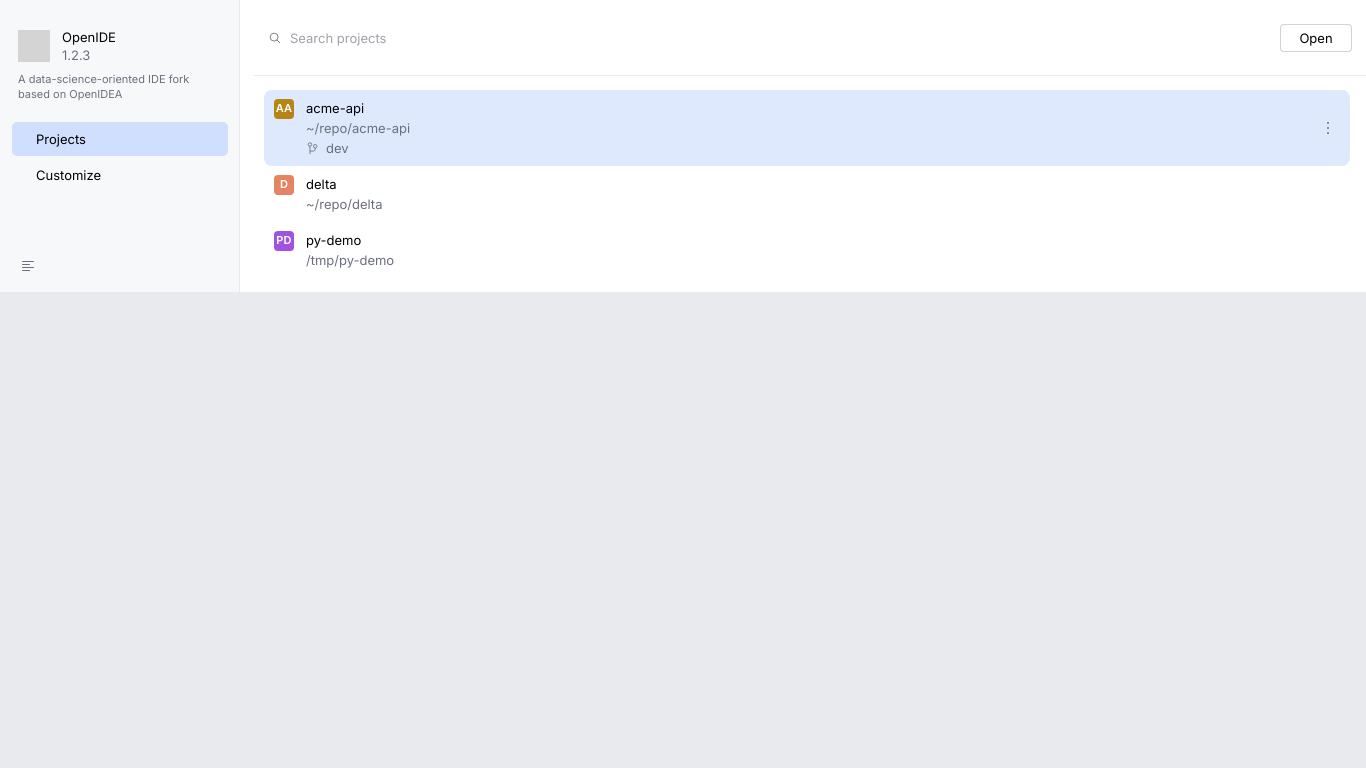
it: Welcome › Projects › moves with arrows, filters by typing, opens with Enter and removes with Delete
This screenshot has width=1366, height=768.
Step 1. Press ArrowDown in the field labelled "Search projects", box x1=288 y1=24 x2=1264 y2=52
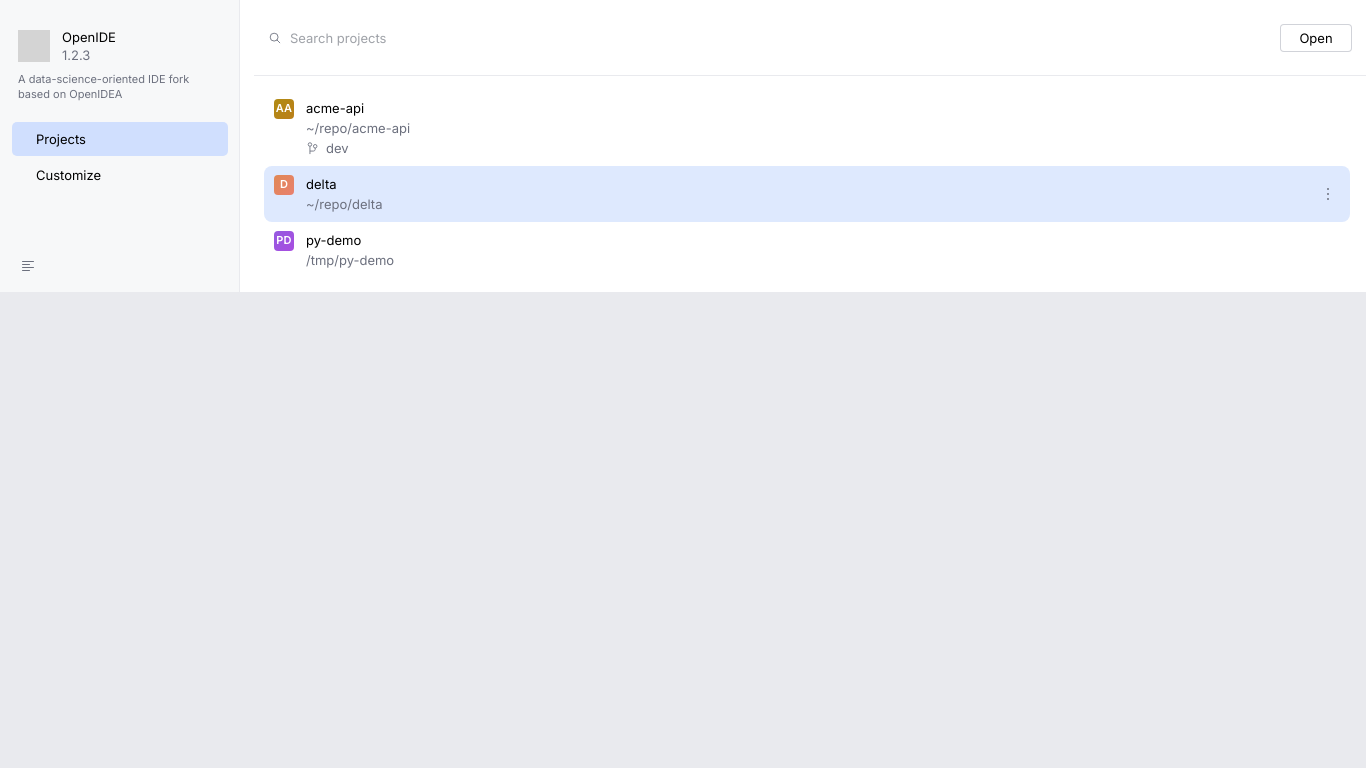
Expected: the text "delta" is shown, x1=306 y1=176 x2=336 y2=192
Step 2. Press Enter in the field labelled "Search projects", box x1=288 y1=24 x2=1264 y2=52
Step 3. Press Delete in the field labelled "Search projects", box x1=288 y1=24 x2=1264 y2=52
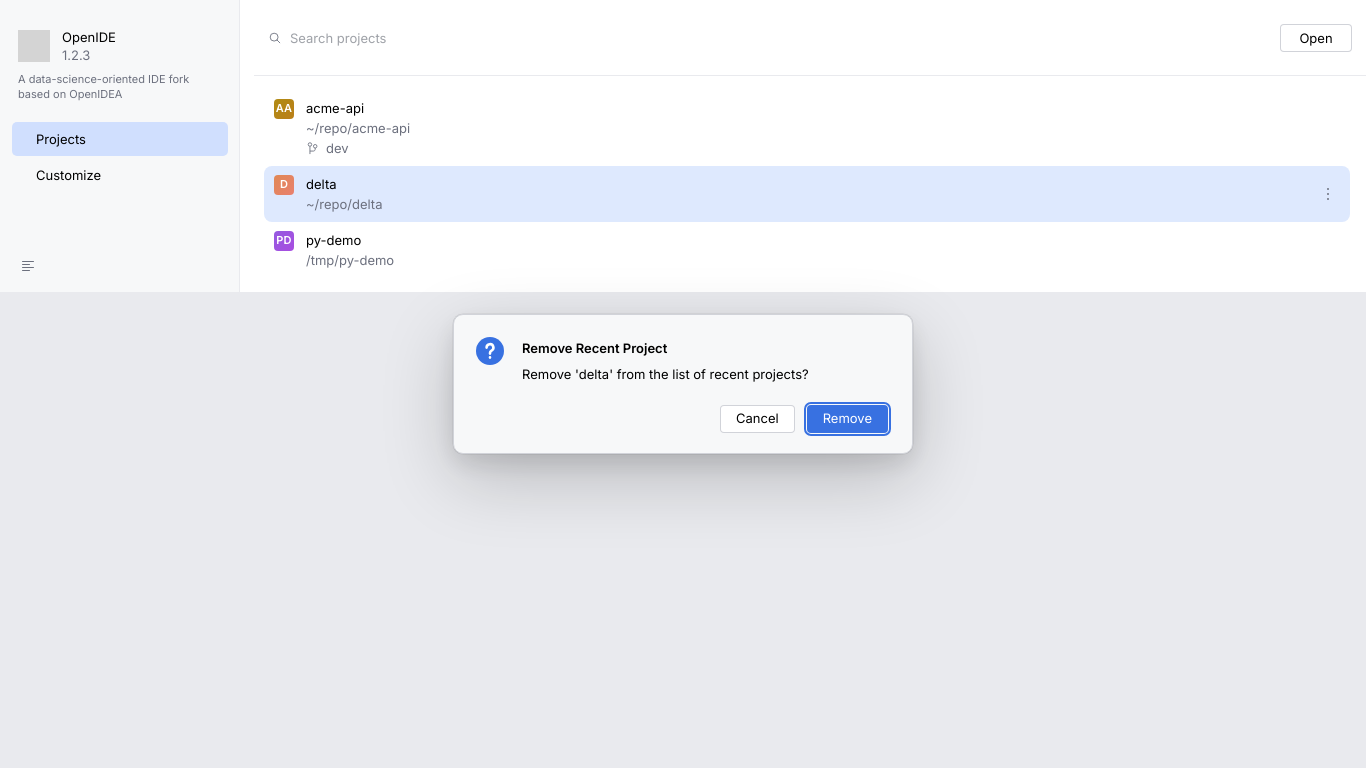
Step 4. Click the button "Remove" → (847, 419), box x1=807 y1=405 x2=888 y2=433
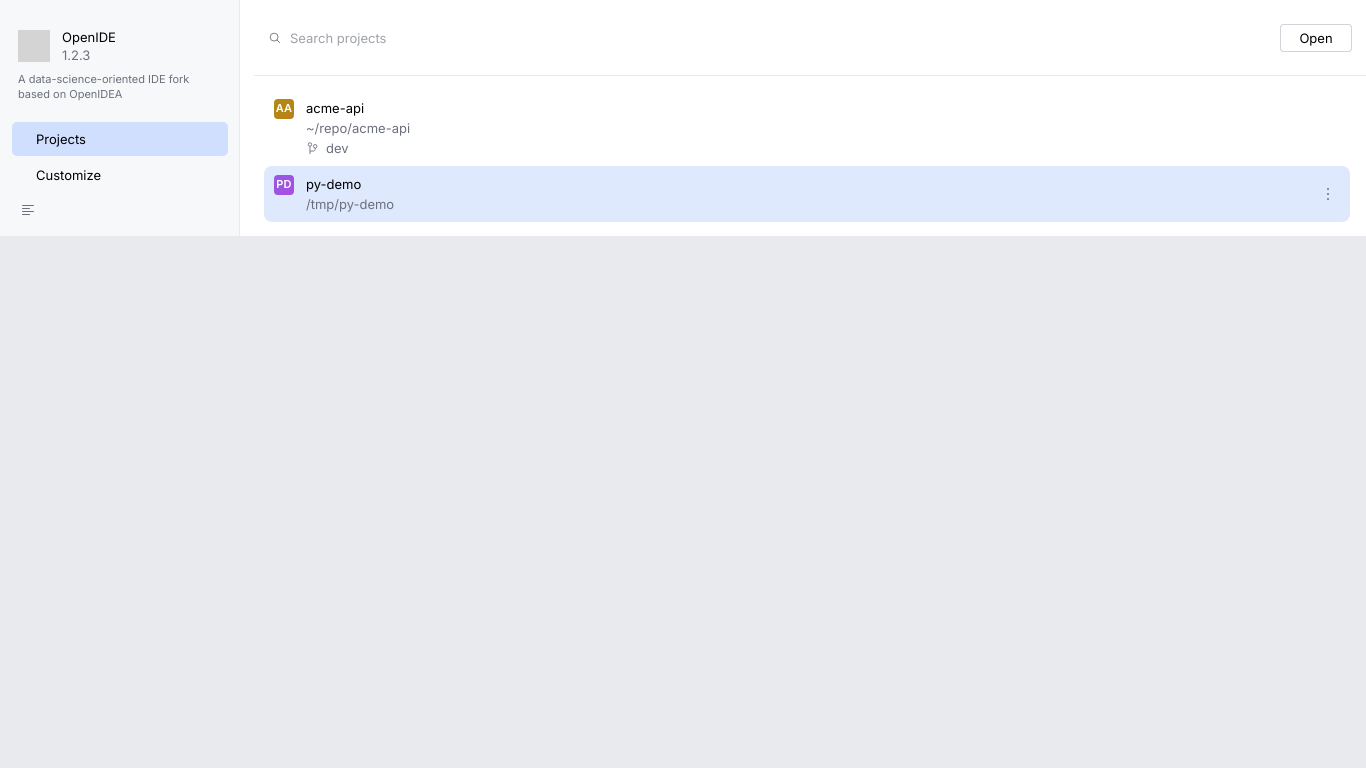
Result: the number of options is 2 at x1=274 y1=99 x2=410 y2=156; x1=264 y1=166 x2=1350 y2=222
Step 5. Type "py" into the field labelled "Search projects" → (776, 38), box x1=288 y1=24 x2=1264 y2=52
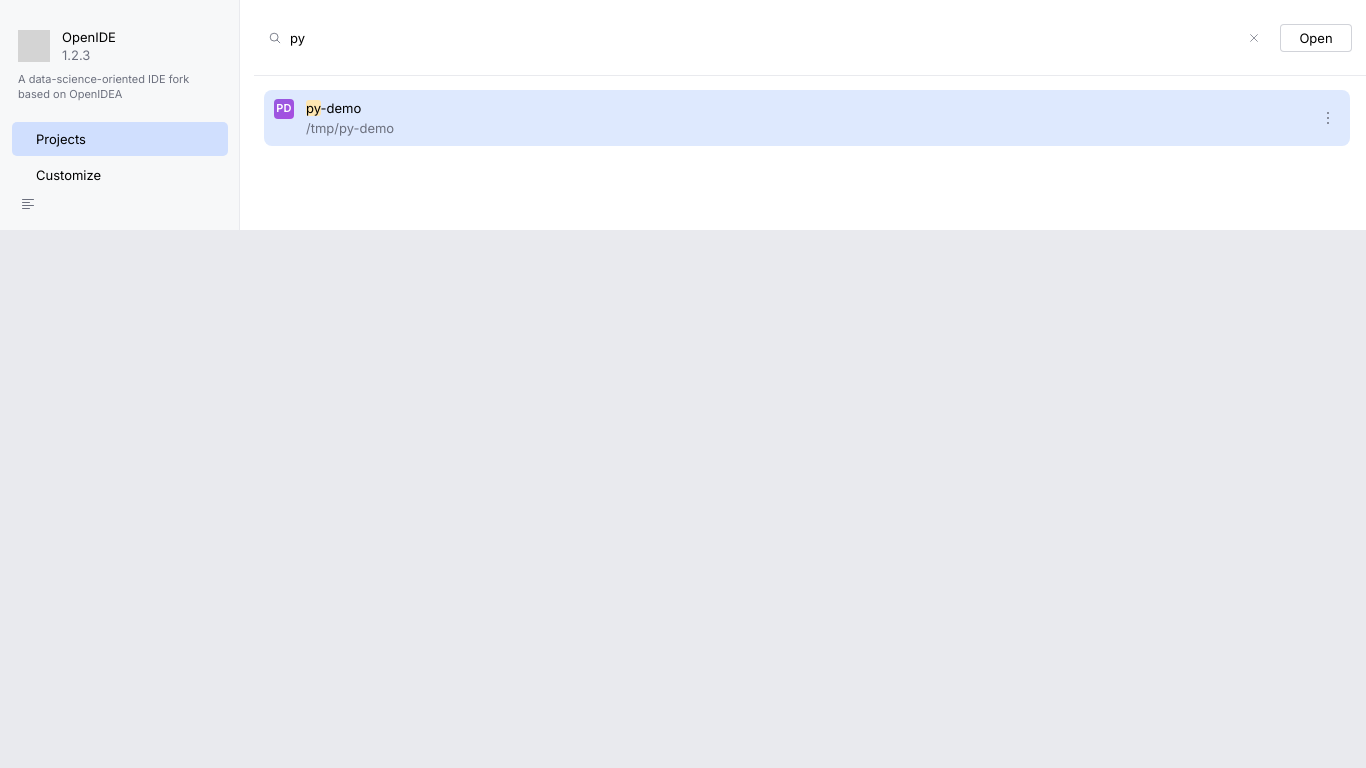
Expected: the element showing "py-demo" is shown, x1=306 y1=100 x2=361 y2=116
Result: the number of options is 1 at x1=264 y1=90 x2=1350 y2=146
